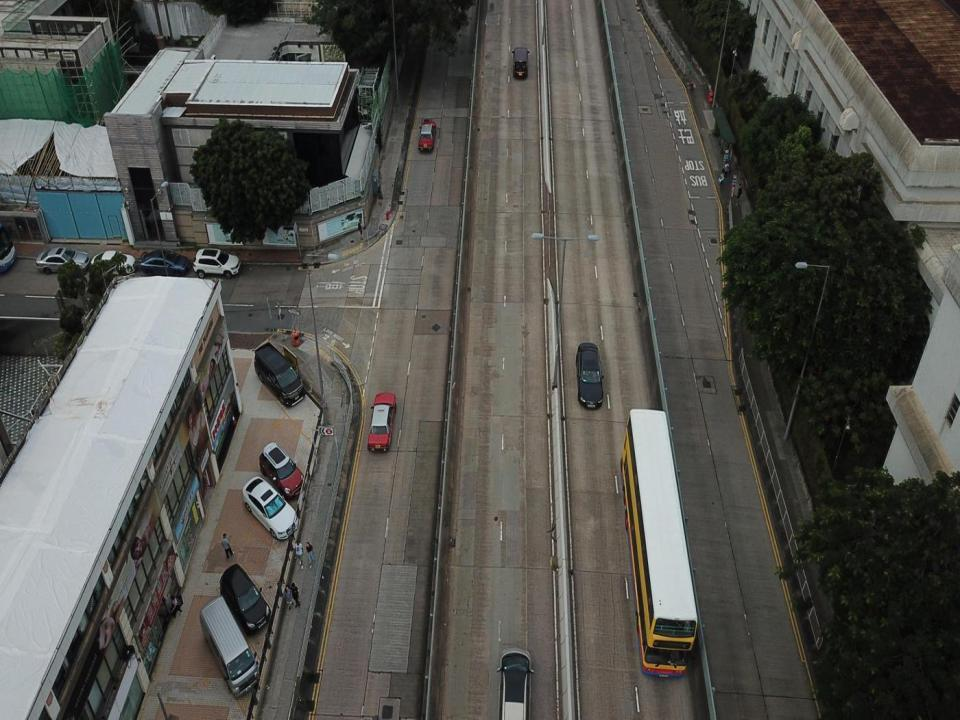bus: (622, 407, 698, 679)
car: (220, 562, 272, 636), (242, 476, 299, 541), (496, 649, 535, 719), (259, 442, 304, 500), (576, 342, 603, 408), (368, 393, 396, 453), (192, 248, 239, 279), (36, 248, 90, 273), (140, 250, 192, 275), (91, 250, 135, 275), (418, 120, 436, 152)
van: (199, 597, 260, 697), (254, 342, 306, 408), (513, 46, 530, 80)
